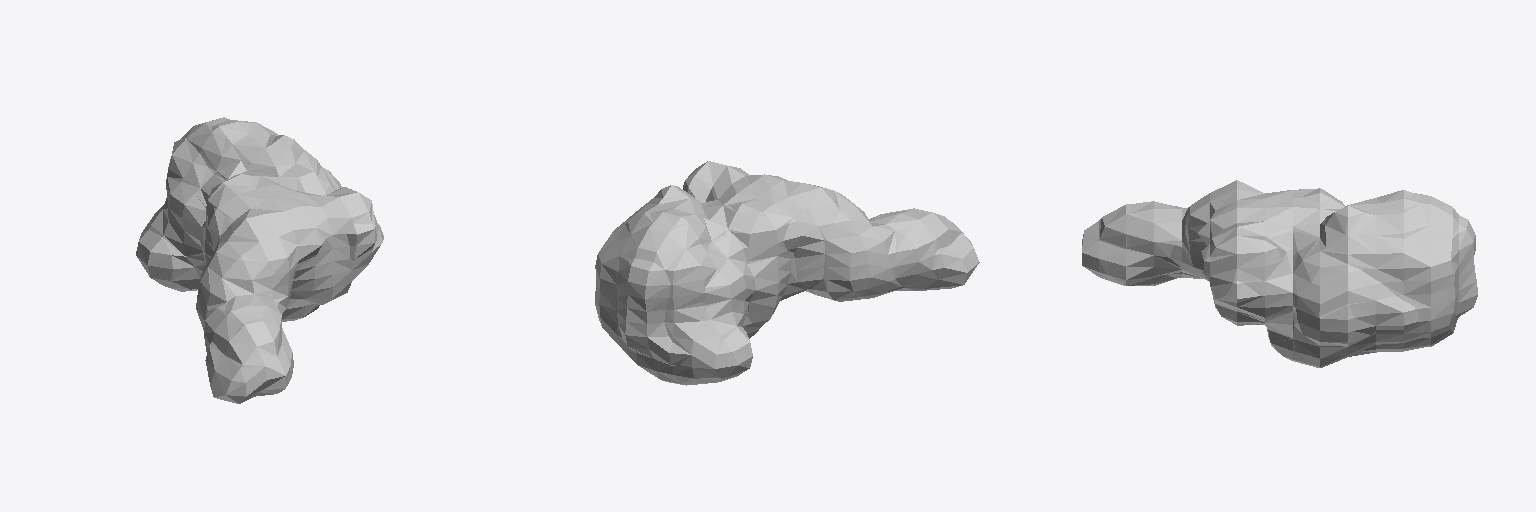
File: 3ip4_cms.obj
3 renders of one model, left to right at view 1: azimuth 30°, elevation 25°; view 2: azimuth 150°, elevation 25°; view 3: azimuth 270°, elevation 25°, orthographic.
Bounding box in the file's own units: 108 × 68.21 × 152.